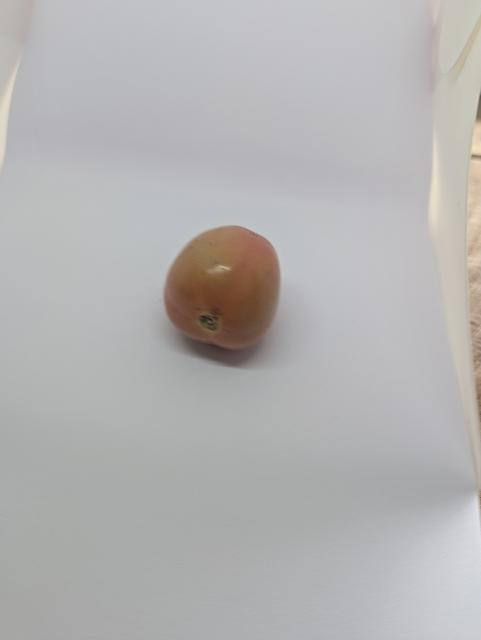turning: (160, 216, 284, 359)
